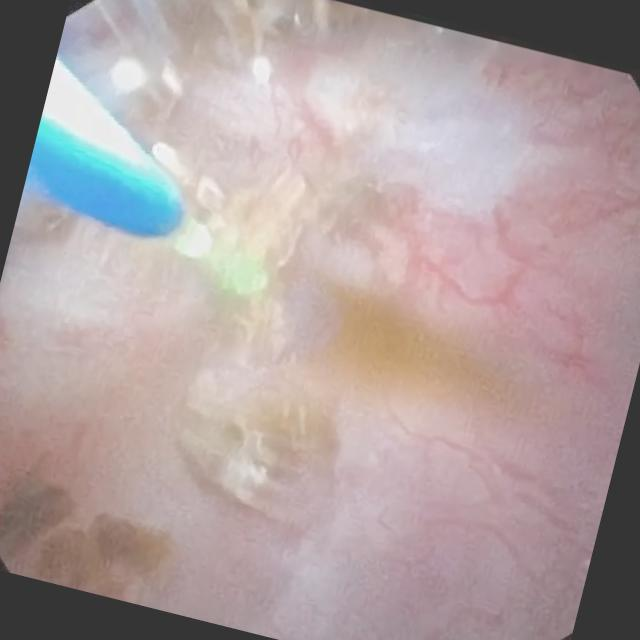laser-fibre: (171, 211, 210, 258)
laser_dot: (223, 250, 266, 295)
stone-new: (155, 142, 315, 351), (175, 369, 338, 525), (311, 274, 502, 397), (34, 511, 172, 598), (156, 0, 360, 55), (0, 472, 73, 554), (123, 88, 172, 144), (11, 195, 72, 239)
